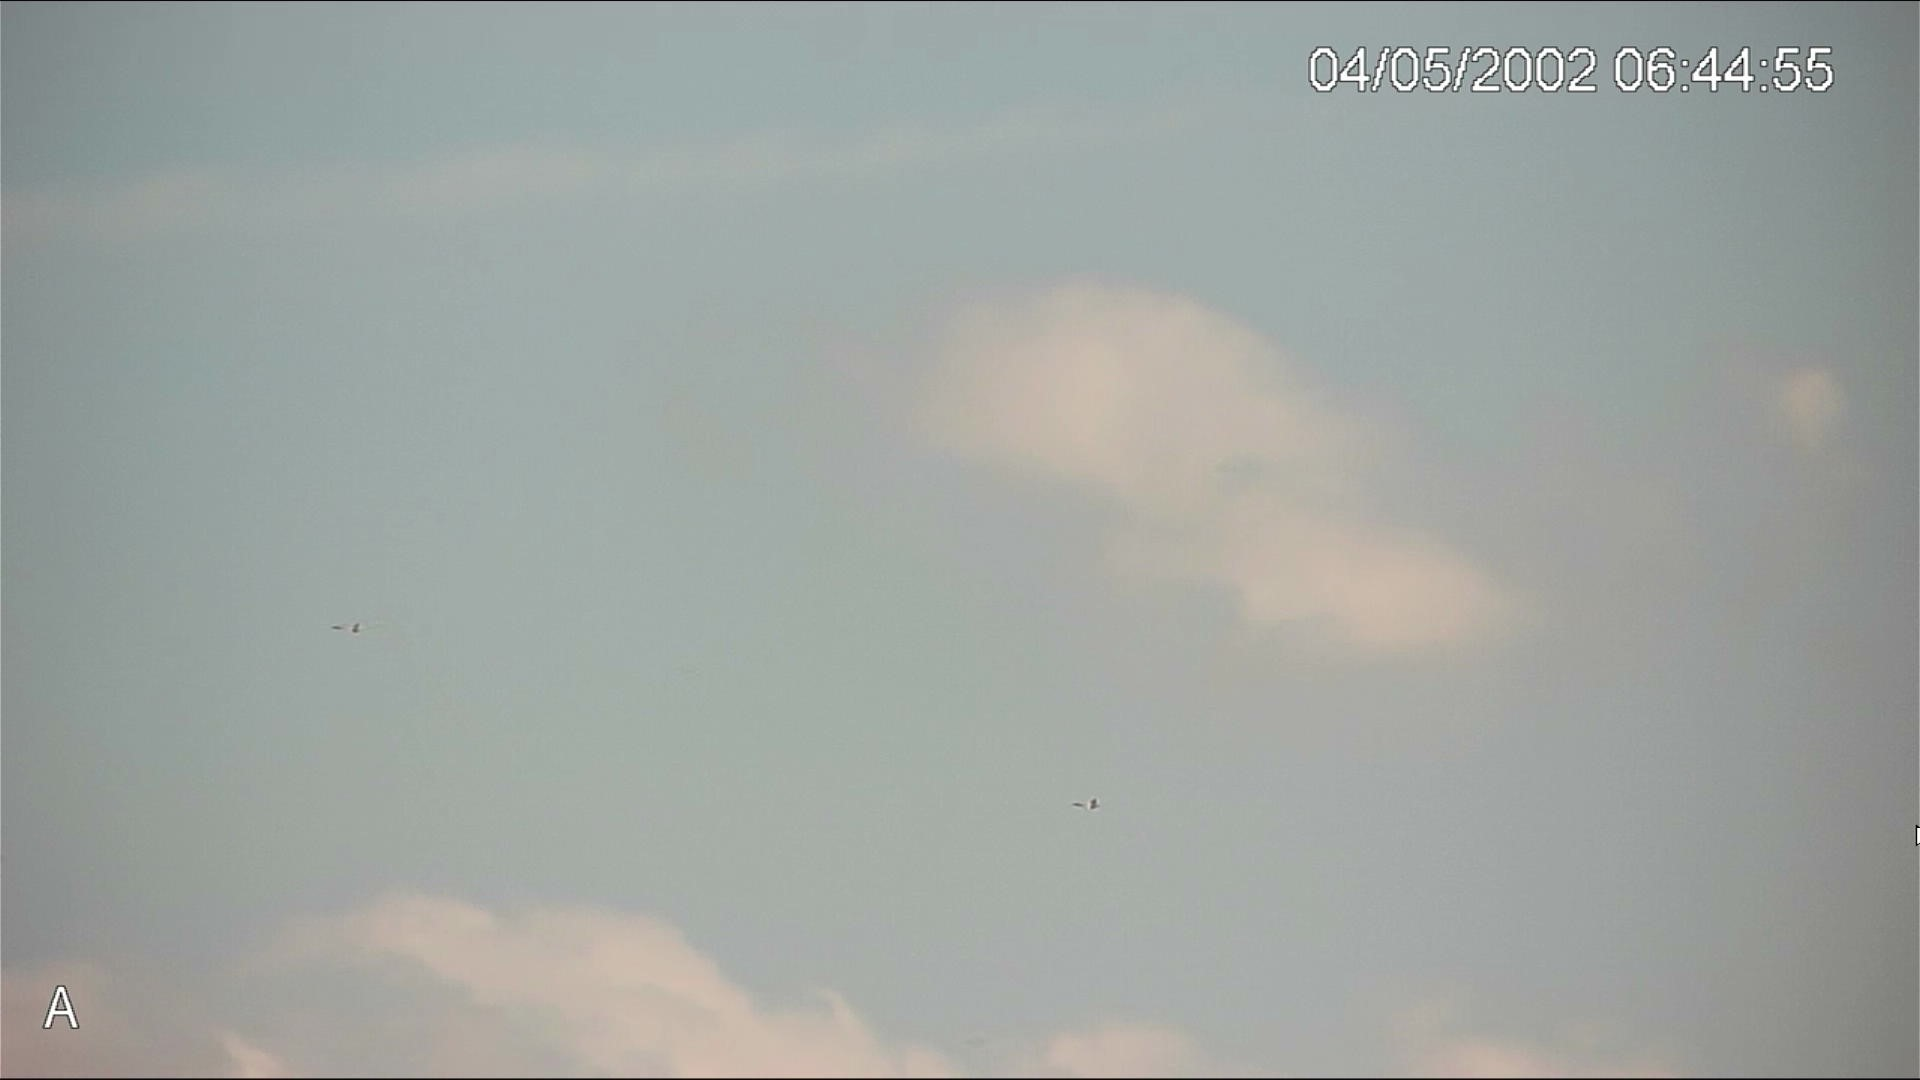SU_30: (331, 616, 367, 632), (1072, 796, 1104, 812)
